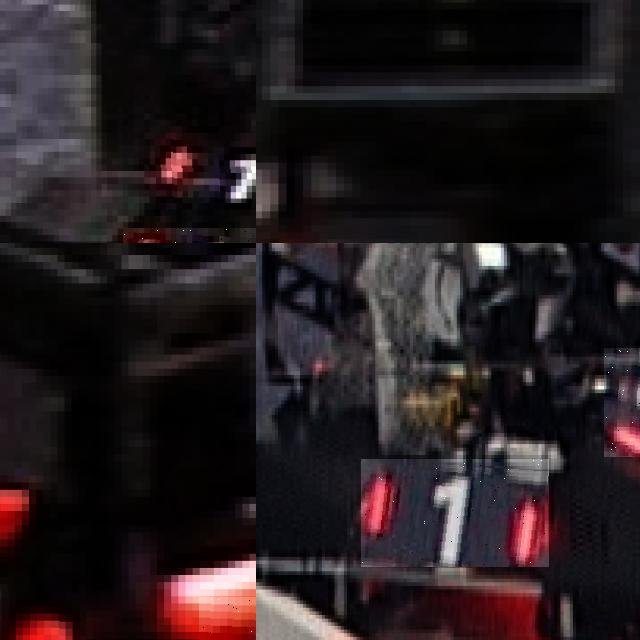R1: (362, 459, 550, 567), (149, 132, 256, 203), (0, 553, 86, 640), (604, 348, 640, 457)
